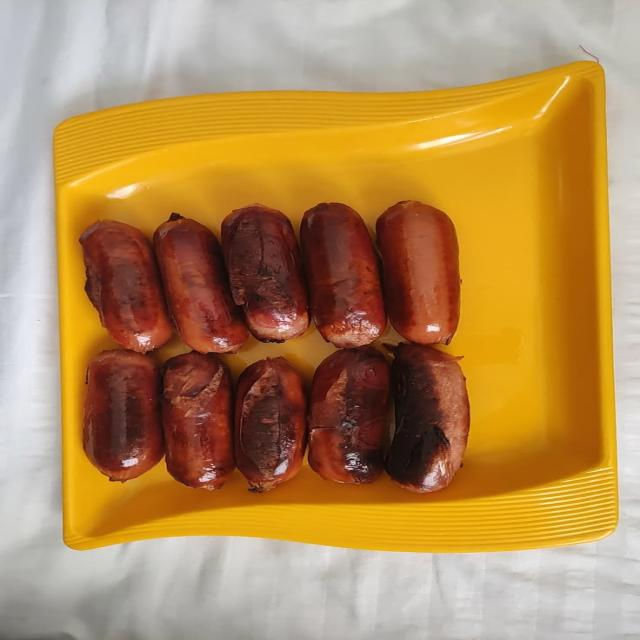sausage: (154, 213, 247, 353), (300, 203, 386, 347), (386, 343, 469, 492), (80, 221, 172, 352), (222, 205, 309, 342), (377, 201, 459, 343), (308, 347, 389, 483), (83, 350, 163, 482), (162, 352, 234, 489), (235, 358, 306, 492)
